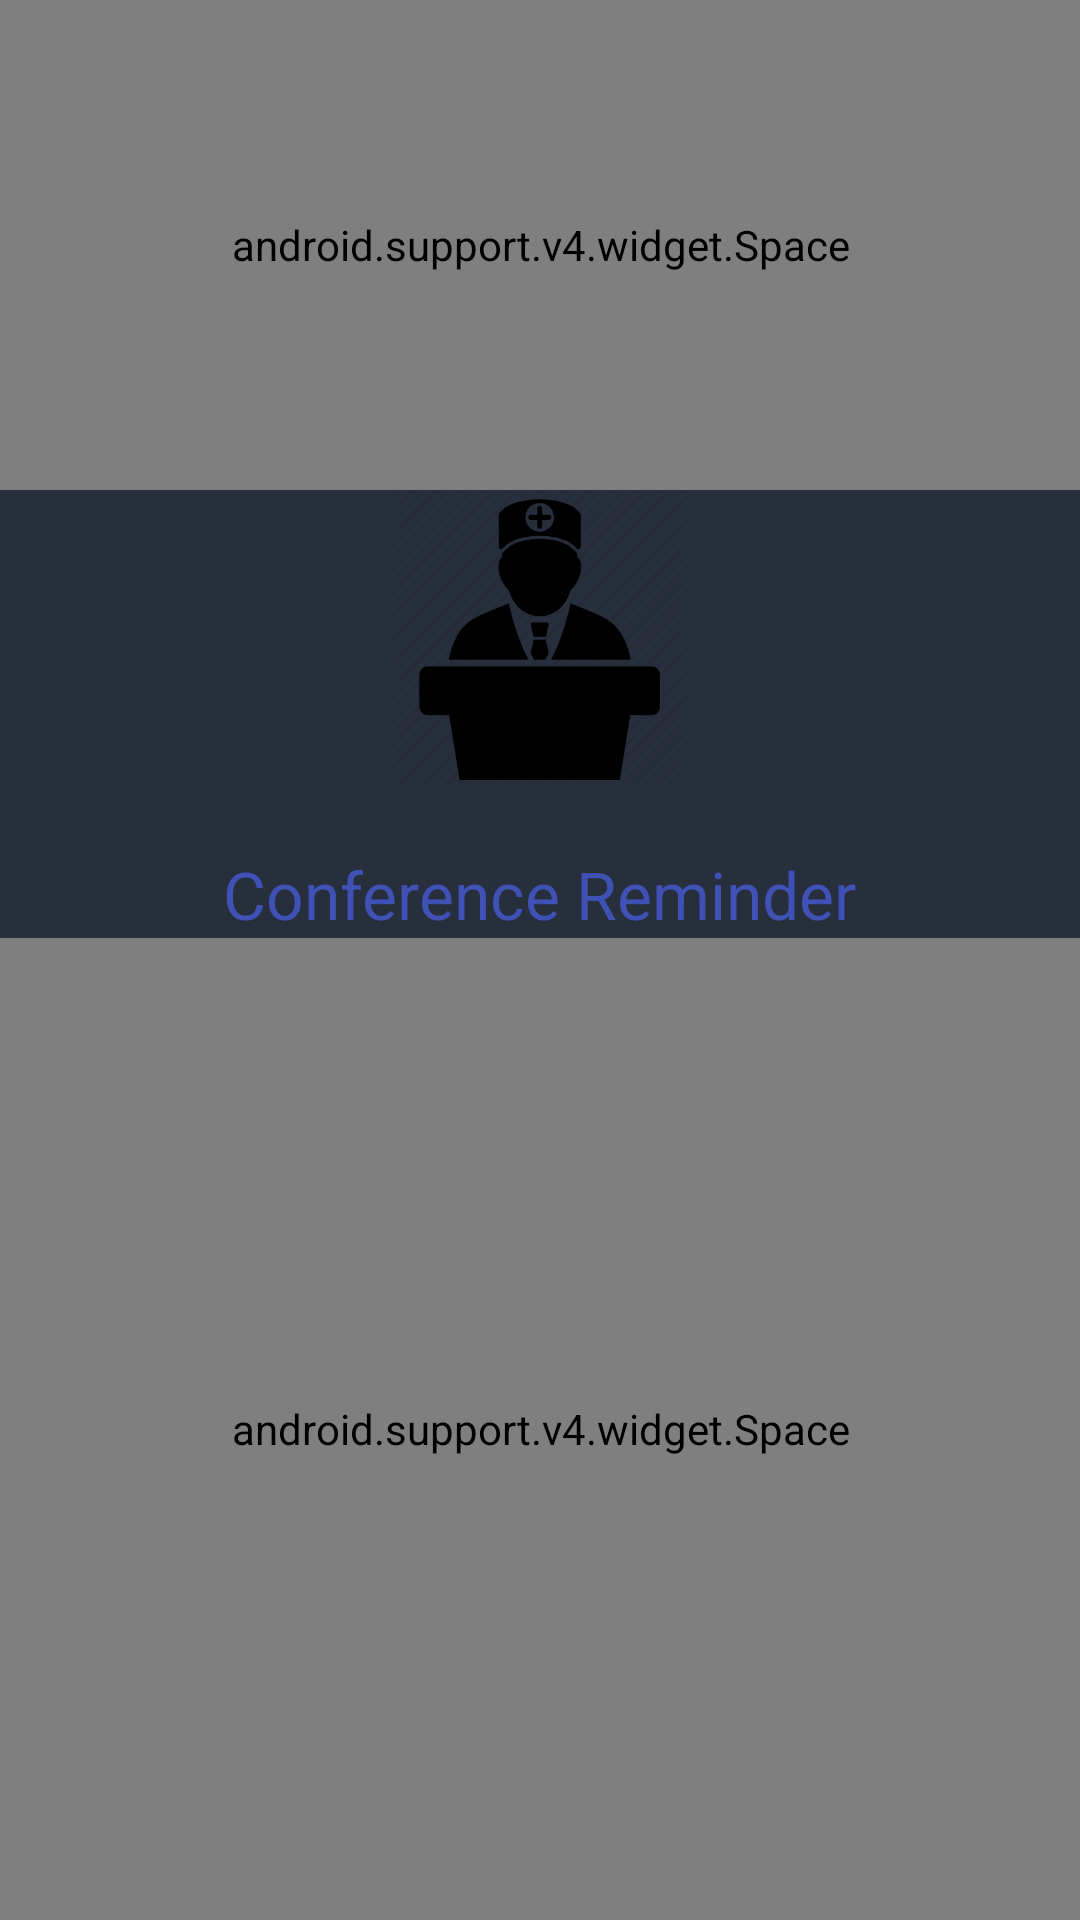

Point at icon controls on the screen. Image size 1080px×1920px, points as point (x, y).
official: point (539, 639)
